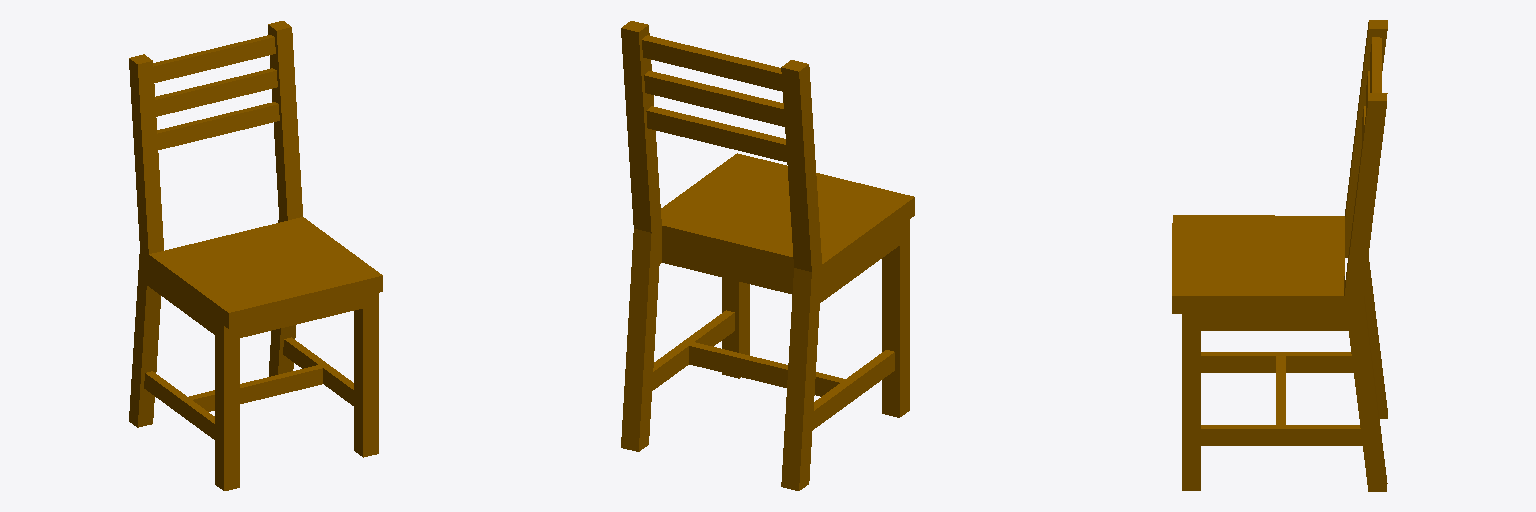
URDF robot description (chair2):
<?xml version="1.0"?>
<robot name="chair2">
<link name="chair2_base_link">
  <inertial>
    <mass value="0.0"/>
    <origin xyz="0 0 0" rpy="0 0 3.14"/>
    <inertia ixx="0.01" ixy="0" ixz="0" iyy="0.01" iyz="0" izz="0.01"/>
  </inertial>

  <visual>
    <origin xyz="0 0 0" rpy="0 0 3.14"/>
    <geometry>
      <mesh filename="package://meshes/chair.dae" scale="1 1 1"/>
    </geometry>
    <material name="material_name">
      <color rgba="0.6 0.4 0 1.0"/>
    </material>
  </visual>

  <collision>
    <origin xyz="0 0 0" rpy="0 0 3.14"/>
    <geometry>
      <mesh filename="package://meshes/chair.dae" scale="1 1 1"/> 
      
      </geometry>
  </collision>
</link>
</robot>

--- What the picture shows (computed from the rendered views, not written in the file) ---
Views: 3 orthographic renders of the robot side by side, from view 1: azimuth 30°, elevation 25°; view 2: azimuth 150°, elevation 25°; view 3: azimuth 270°, elevation 25°.
Robot: chair2 — 1 links, 0 joints (none); root link chair2_base_link; default pose: every joint at zero.
Visible links, largest first — view 1: chair2_base_link; view 2: chair2_base_link; view 3: chair2_base_link.
Link boxes in pixels (x1,y1,x2,y2): chair2_base_link: (129, 21, 382, 490); chair2_base_link: (621, 21, 914, 490); chair2_base_link: (1172, 20, 1387, 491).
Bounding box of the posed robot: 0.4007 × 0.4506 × 0.9 m (x, y, z).
1 mesh visuals loaded from 1 distinct referenced files (1 Collada DAE).
